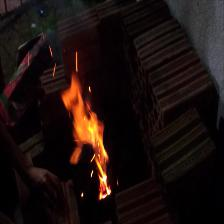fire: (50, 61, 140, 206)
